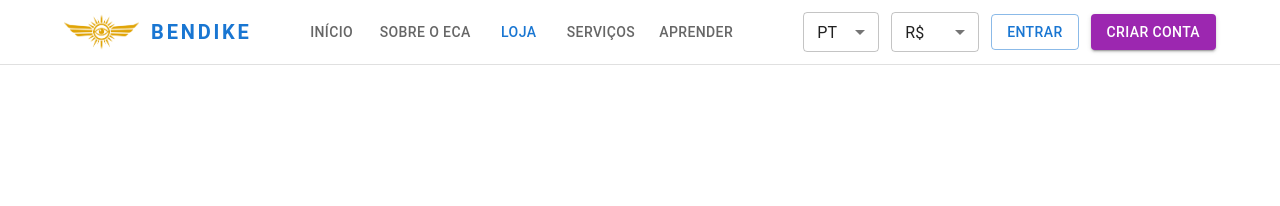
Test: SiteNav shop entry › shows the currency switcher beside the language, defaulting to the locale currency, with the three options
What coordinates should you click on to do the following:
click the dropdown labelled "R$"
I would click on:
 (915, 32)
Its box is [905, 22, 924, 42].
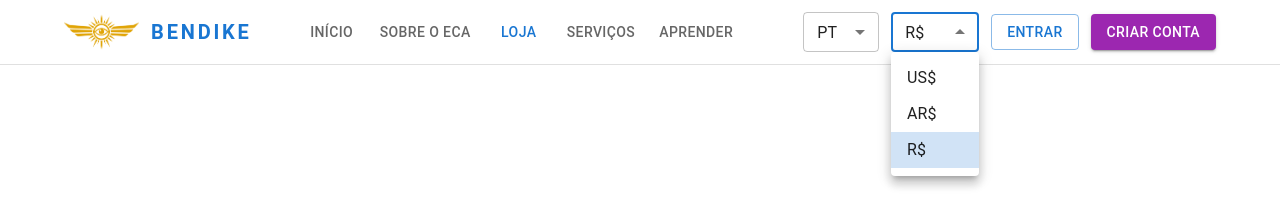
Check: the options read "US$", "AR$", "R$", in this order
What coordinates should you click on to do the following:
click the option "AR$"
I would click on:
 (922, 114)
Its box is [907, 104, 937, 123].
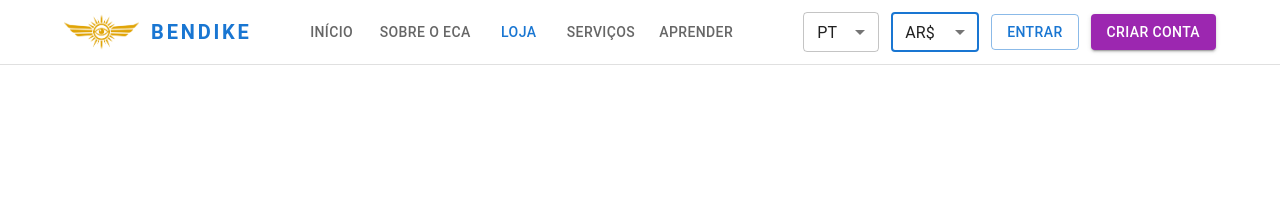
Check: the dropdown labelled "AR$" is shown, box [905, 22, 935, 42]
